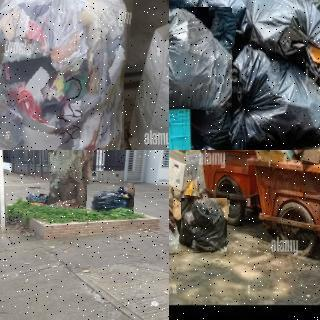Garbage: (0, 0, 130, 150), (200, 48, 320, 150), (169, 3, 234, 110), (235, 0, 320, 76), (243, 0, 320, 68), (180, 197, 229, 253), (169, 0, 243, 33), (86, 182, 135, 215)
